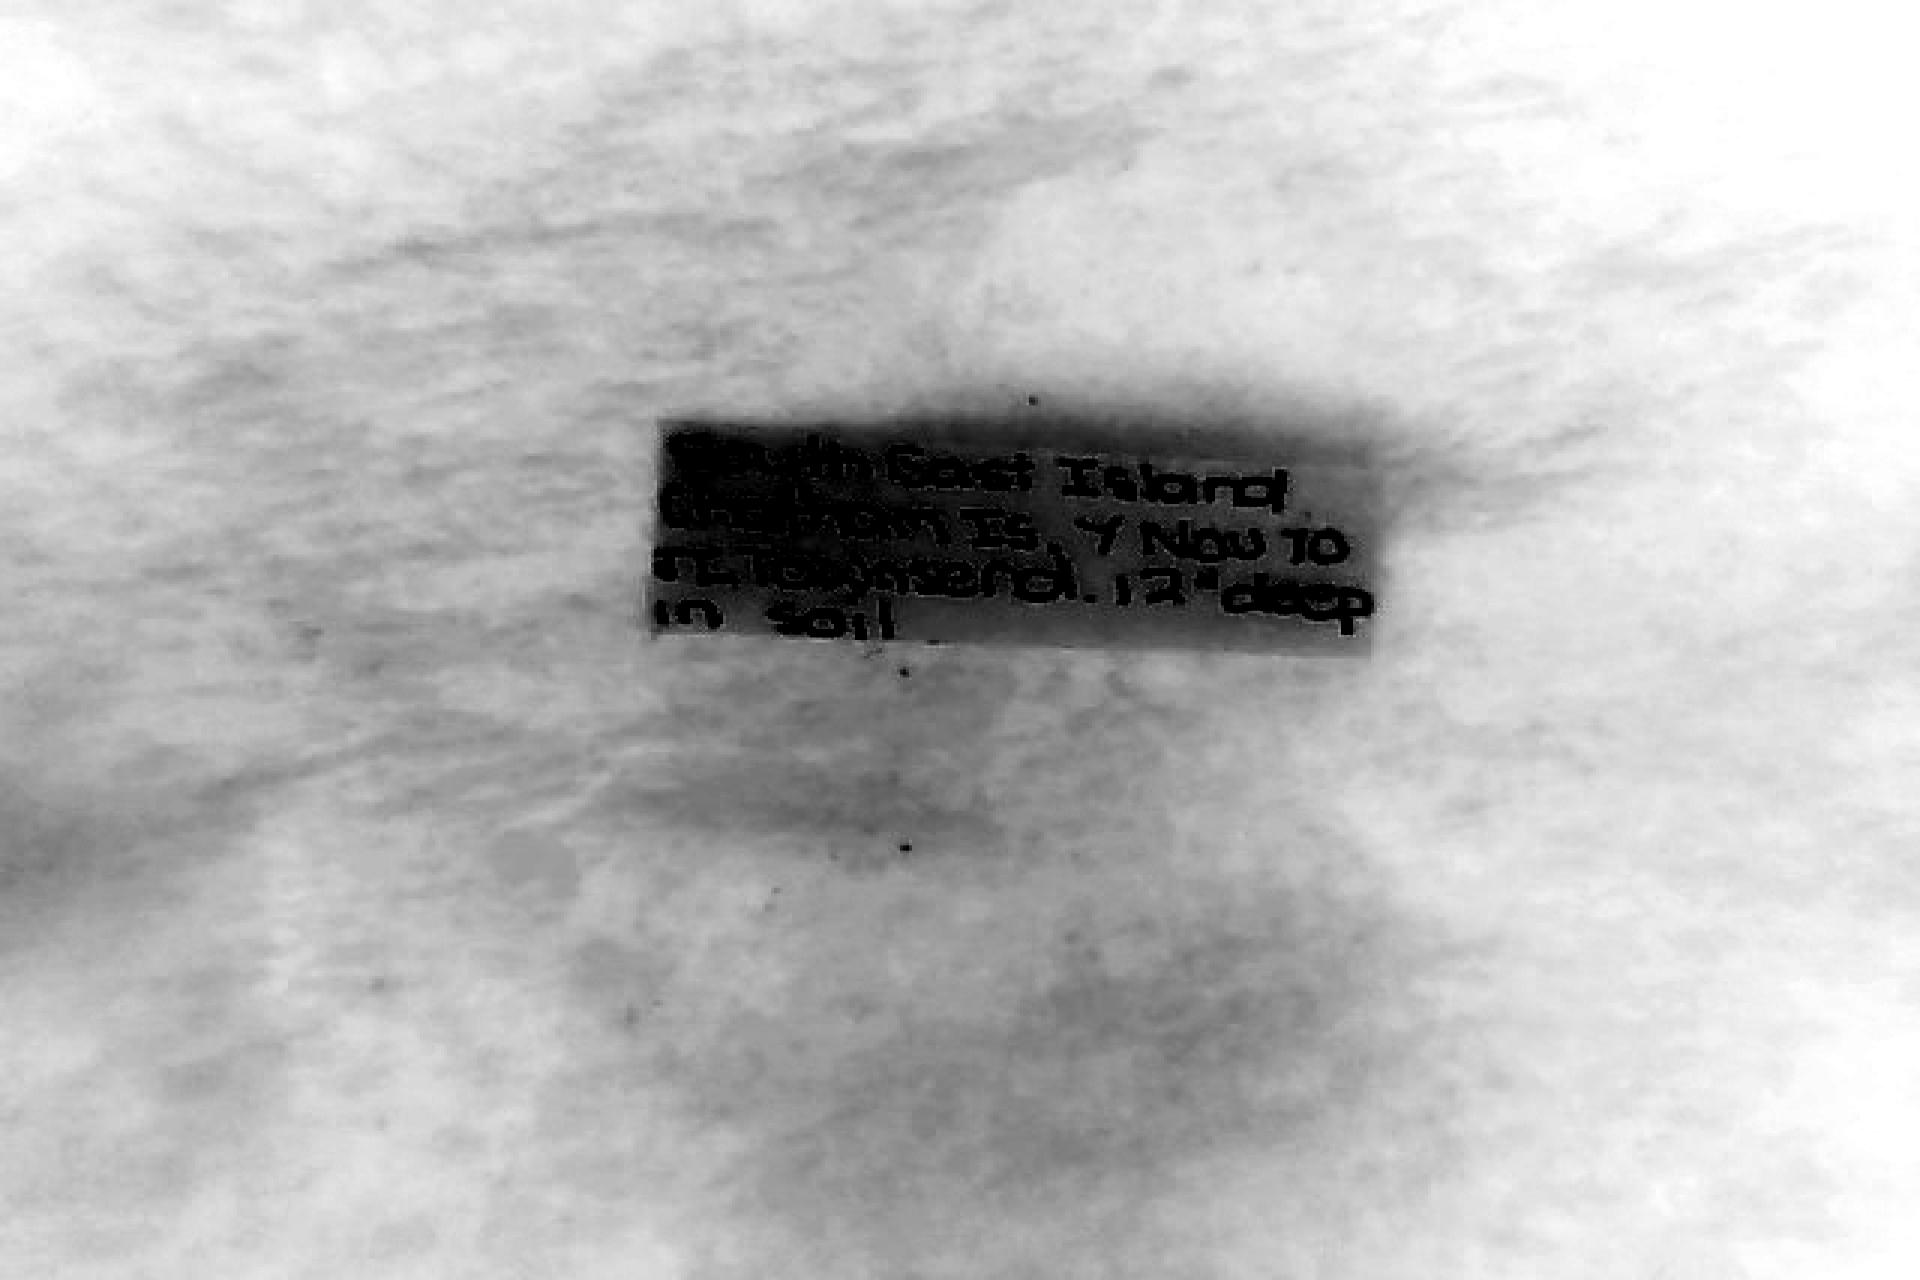hand_label: (649, 427, 1381, 651)
